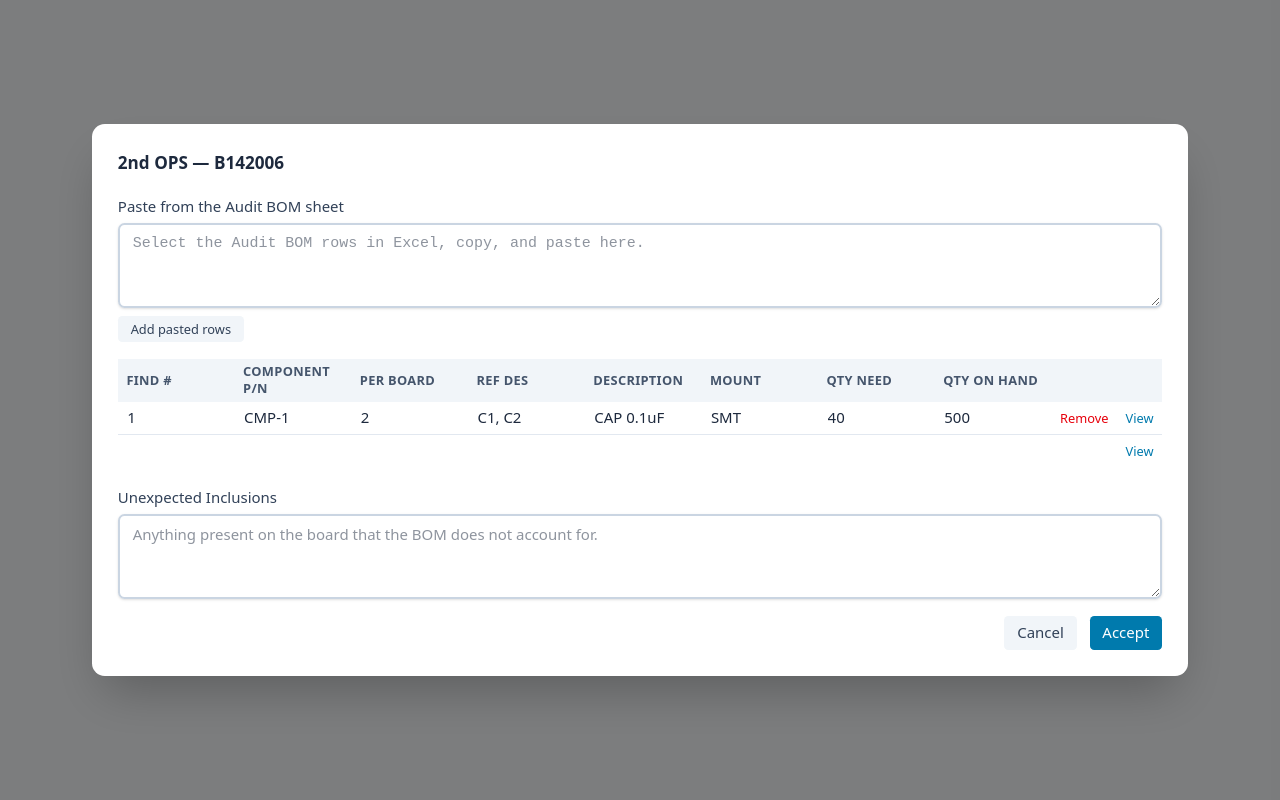
Test: SecondOpsEntryModal › re-enables ACCEPT after an unreachable save and leaves the grid untouched
Click the button with test id "second-ops-accept-btn". click: x=1126, y=633
box: [1090, 616, 1162, 650]
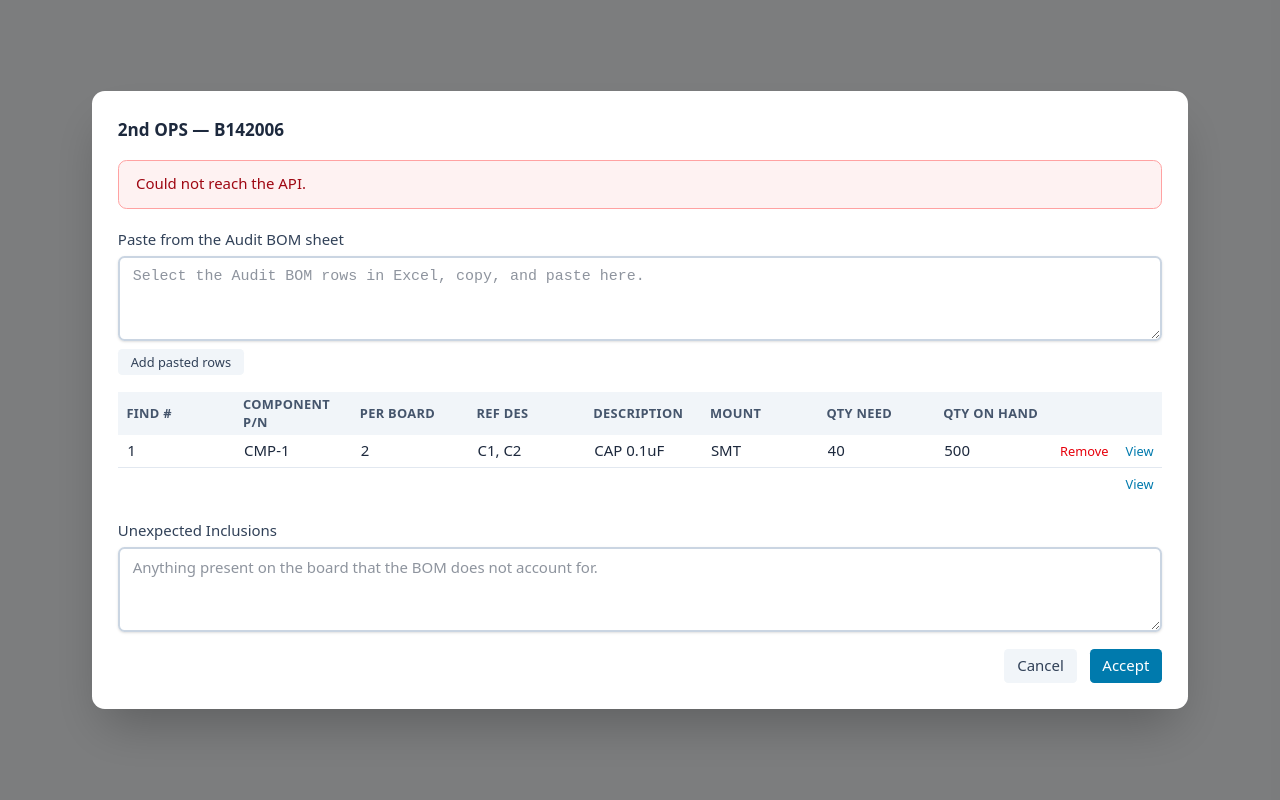
Expected: the button with test id "second-ops-accept-btn" is enabled, [1090, 649, 1162, 683]
Result: the text with test id "second-ops-entry-banner-error" shows "Could not reach" at [136, 173, 306, 193]
